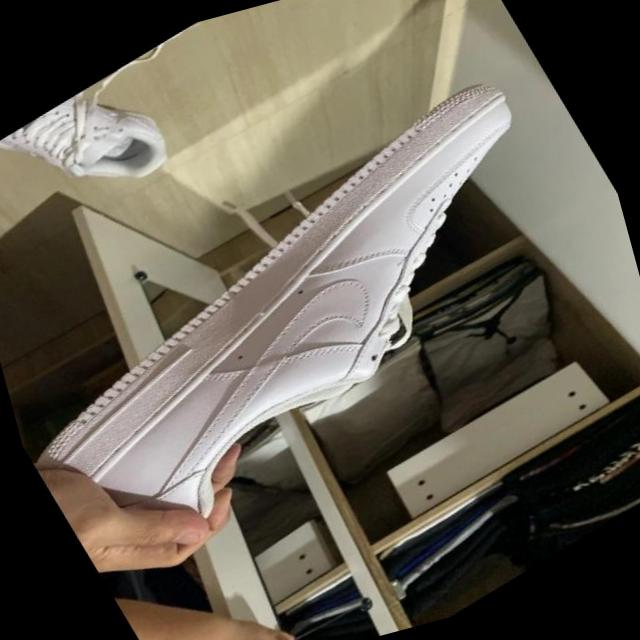nike_original_airforce: (0, 51, 640, 590)
